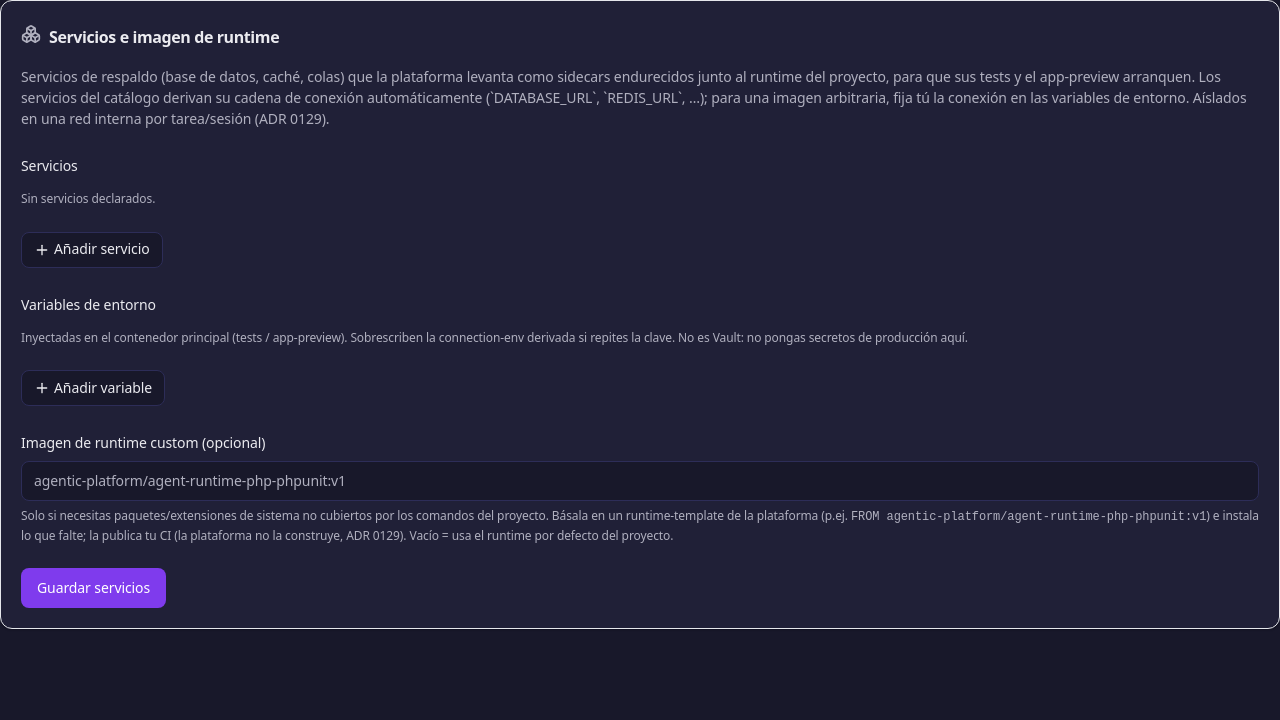
Test case: runtime-services-section — el catálogo y las validaciones › y en castellano dicen lo mismo en castellano
The image size is (1280, 720).
Click the button with test id "add-service" at [92, 250], box [21, 232, 163, 268]
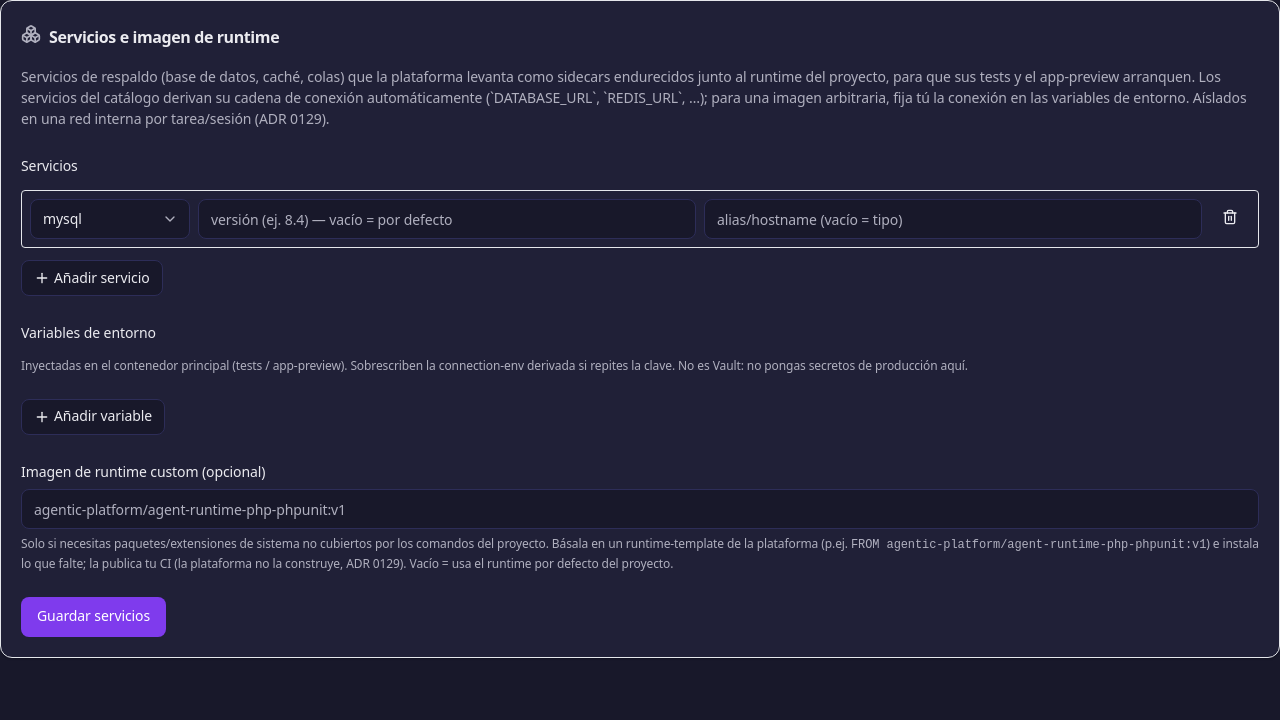
Type "MalAlias" into the field with test id "service-alias-0" at [953, 219], box [704, 199, 1202, 239]
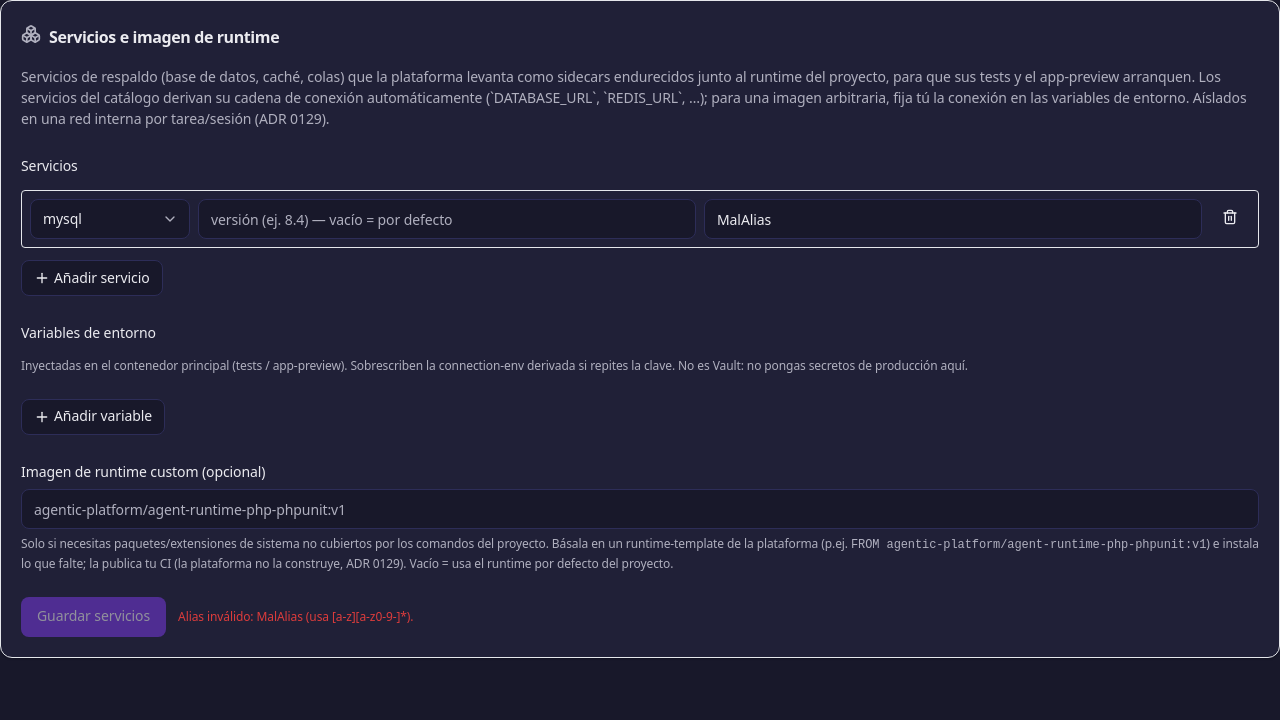
Check: the text with test id "runtime-services-validation" shows "Alias inválido: MalAlias", box [178, 608, 414, 625]
